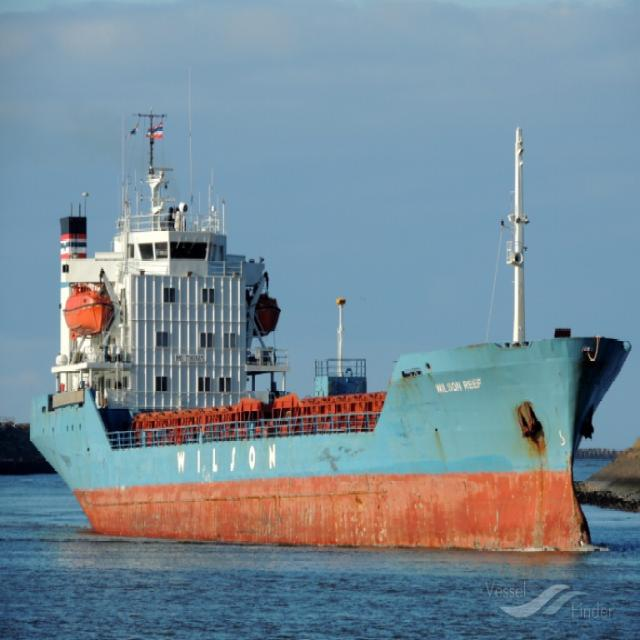Bulk Carrier: (28, 156, 625, 554)
